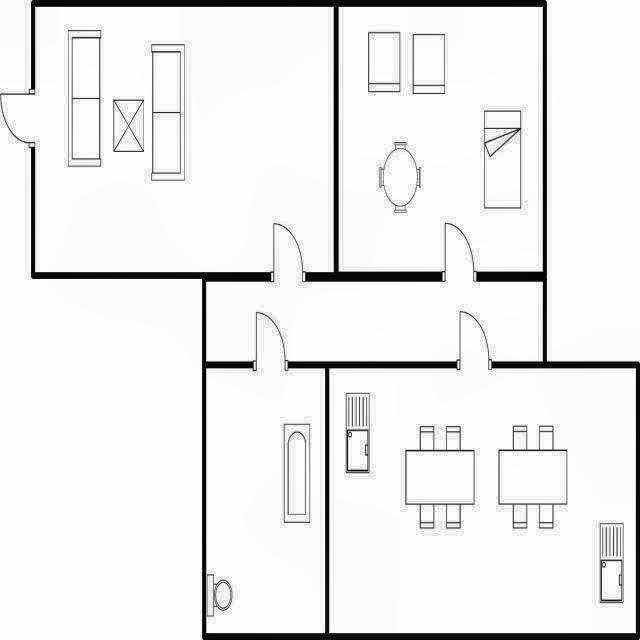room: (329, 368, 635, 631), (36, 8, 334, 273), (340, 6, 543, 271), (207, 367, 325, 632), (206, 281, 542, 360)
